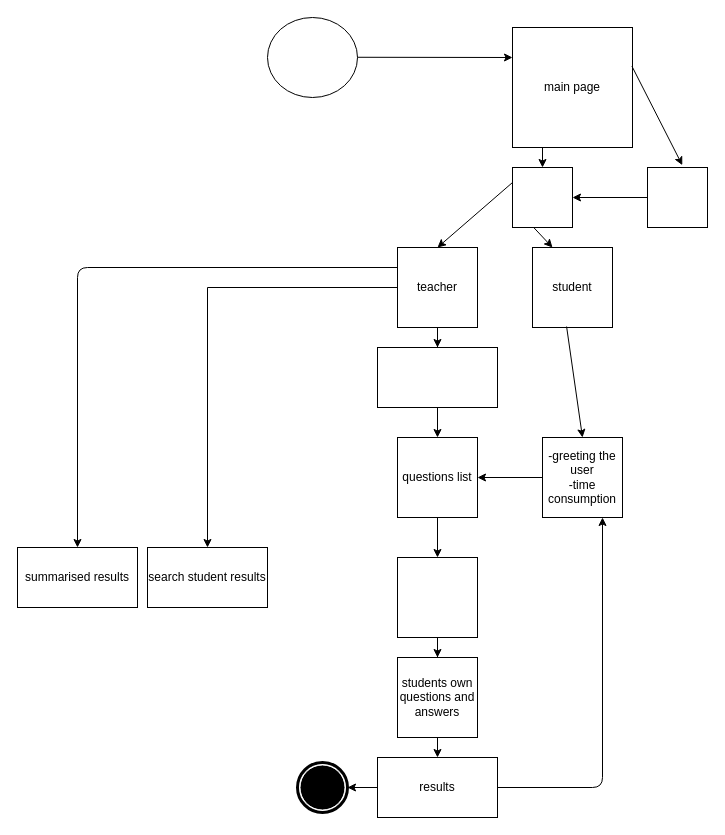
Image size: 725x835. Some labels were removed from this diagram. The box of each missing label's shape, as (x1, y1, x2, y2) in pixels:
answers, time, happiness level: (396, 556, 478, 638)
create questions: (376, 346, 498, 408)
login (confirmation): (512, 166, 572, 228)
registration (checkbox socialsecnr class): (646, 166, 708, 228)
